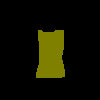canottiera: (35, 30, 64, 78)
